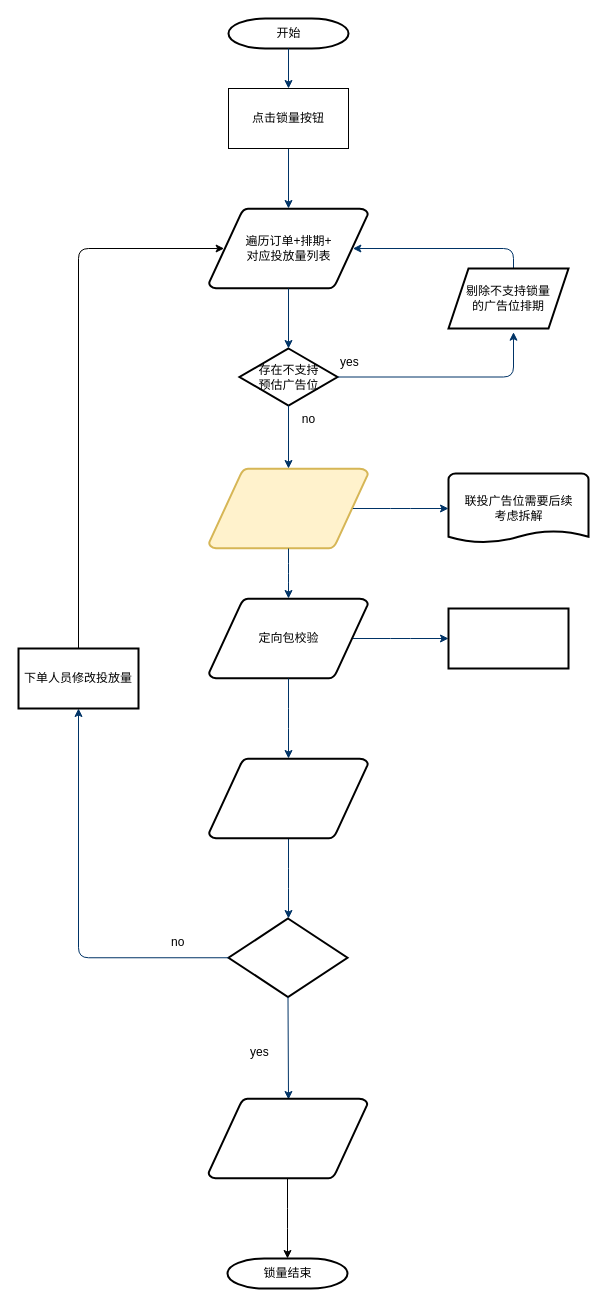
The diagram is 606 pixels wide and 1306 high, and some of its shapes have lost their labels. The box of each missing label's shape, as (x1, y1, x2, y2) in pixels:
持久化订单+排期+ 投放量的锁定量 以及锁量状态: (207, 1097, 368, 1179)
组装算法锁量接口 请求对象(订单整体): (208, 757, 368, 839)
联投广告位拆解 (暂不支持): (208, 467, 368, 549)
避免非品牌广告支持定向维度出现: (447, 607, 569, 669)
锁量成功: (227, 917, 348, 998)
